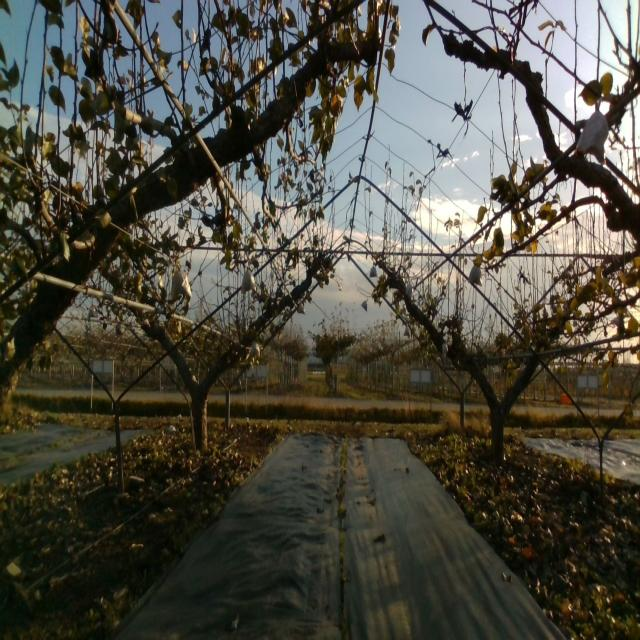pearbags: (576, 101, 609, 166), (169, 266, 191, 300), (467, 264, 485, 285), (241, 267, 256, 291)
